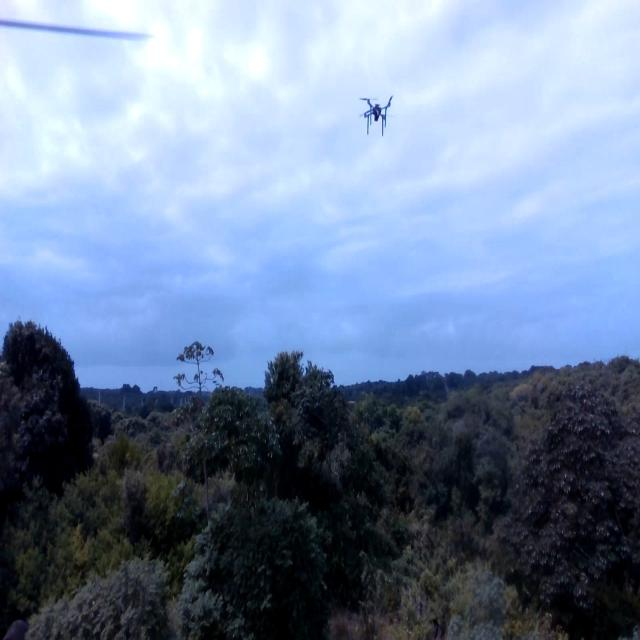-uav-: (354, 89, 396, 141)
